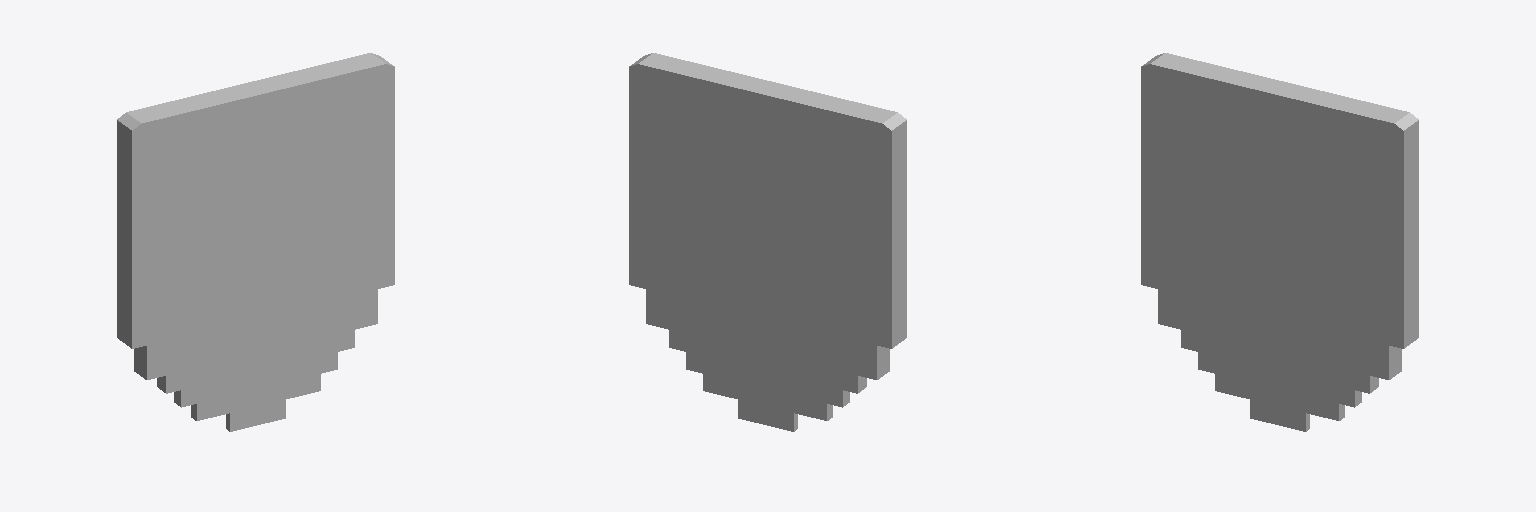
Rendered from shield.obj.
3 views of the same model, side by side, from view 1: azimuth 30°, elevation 25°; view 2: azimuth 150°, elevation 25°; view 3: azimuth 330°, elevation 25° (orthographic).
Visible parts, largest first — view 1: Cube_Cube.001; view 2: Cube_Cube.001; view 3: Cube_Cube.001.
Part boxes in pixels (x1,y1,x2,y2): Cube_Cube.001: (117, 53, 394, 431); Cube_Cube.001: (629, 53, 906, 431); Cube_Cube.001: (1141, 53, 1418, 431).
Bounding box in the file's own units: 0.6938 × 0.847 × 0.0707.